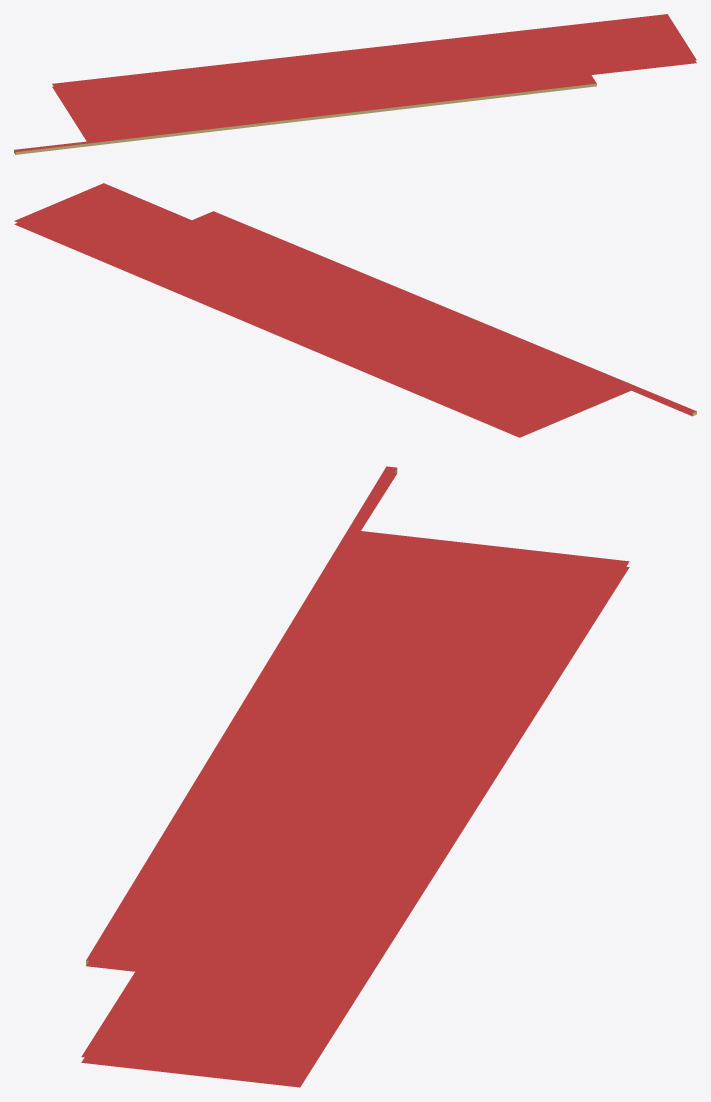
3 renders of one model, top to bottom at view 1: azimuth 30°, elevation 25°; view 2: azimuth 150°, elevation 25°; view 3: azimuth 270°, elevation 25°, orthographic. The views are drawn at different scales.
Size of the model in its own units: 22.98 by 8.66 by 0.1.
